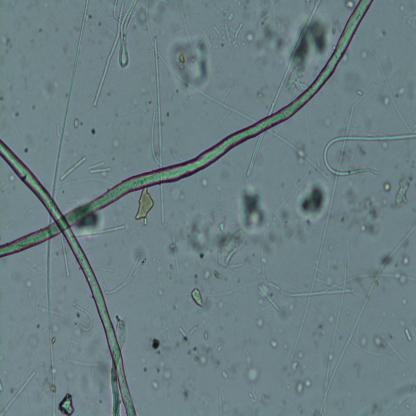Background material: (246, 202, 307, 260), (170, 32, 209, 95), (288, 24, 330, 73), (338, 186, 380, 234), (186, 325, 223, 367), (238, 185, 269, 231), (188, 210, 216, 260), (89, 350, 114, 403), (216, 229, 248, 267), (300, 184, 330, 219), (135, 188, 156, 224), (392, 178, 414, 206), (284, 349, 306, 376), (24, 329, 43, 353), (397, 251, 410, 286), (57, 392, 76, 414), (165, 184, 185, 203), (190, 285, 206, 308), (157, 356, 172, 380), (200, 267, 218, 283), (246, 364, 261, 382), (295, 379, 313, 393), (149, 333, 162, 352), (296, 144, 307, 166), (202, 171, 214, 191), (71, 112, 83, 130), (395, 81, 407, 98), (374, 333, 385, 351), (138, 355, 148, 373), (382, 178, 392, 195), (150, 377, 161, 392), (361, 336, 371, 350), (256, 316, 266, 330), (382, 94, 391, 108), (88, 126, 98, 138), (401, 292, 408, 308), (356, 87, 366, 97), (359, 48, 369, 58), (221, 369, 229, 381), (270, 340, 278, 352), (181, 387, 190, 397), (378, 139, 388, 148), (219, 217, 225, 231), (155, 288, 163, 298), (165, 109, 170, 118), (22, 148, 28, 153)
Glass filter fibre: (319, 225, 416, 415), (288, 104, 356, 361), (144, 3, 258, 127), (52, 0, 89, 197), (268, 0, 322, 116), (323, 130, 416, 177), (369, 48, 416, 134), (92, 1, 126, 107), (43, 240, 58, 414), (55, 301, 94, 367), (102, 252, 150, 296), (113, 1, 139, 68), (151, 36, 164, 169), (0, 370, 37, 414), (287, 284, 356, 300), (246, 130, 266, 180), (148, 110, 163, 167), (75, 222, 126, 237), (59, 158, 87, 182), (258, 285, 280, 312), (222, 20, 243, 46), (59, 233, 71, 278), (168, 234, 180, 276), (158, 181, 167, 225), (87, 161, 113, 176), (242, 379, 258, 403), (262, 278, 281, 294), (230, 261, 243, 273), (404, 327, 413, 343), (178, 327, 186, 338)
Microfibre: (0, 0, 374, 257), (0, 139, 138, 414)
